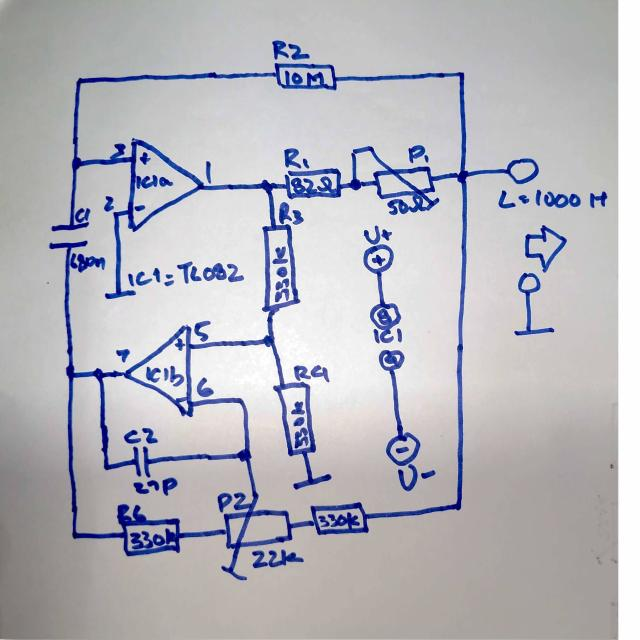capacitor: (48, 222, 92, 250), (130, 445, 152, 480)
ground: (291, 471, 333, 493), (512, 324, 557, 338), (104, 286, 138, 302)
junction: (258, 178, 274, 194), (454, 169, 470, 184), (64, 364, 78, 381), (90, 366, 104, 383), (237, 448, 252, 463), (347, 177, 362, 192), (262, 334, 277, 348), (70, 156, 82, 172), (74, 74, 85, 88), (110, 208, 121, 222), (348, 144, 358, 158), (455, 70, 466, 82), (70, 529, 80, 542), (102, 461, 112, 474), (236, 395, 246, 408), (454, 499, 464, 512), (251, 490, 261, 502), (365, 142, 375, 154)
resistor: (220, 510, 294, 582), (260, 224, 301, 313), (272, 380, 317, 458), (372, 165, 440, 213), (119, 517, 182, 555), (272, 61, 339, 93), (309, 501, 370, 536), (284, 167, 342, 201)
terminal: (385, 431, 420, 467), (361, 242, 395, 275), (506, 156, 540, 186), (368, 302, 403, 331), (378, 348, 406, 374), (516, 271, 542, 297)
text: (126, 260, 245, 288), (497, 188, 608, 211), (396, 463, 437, 492), (250, 548, 304, 570), (142, 362, 185, 389), (271, 245, 291, 303), (283, 68, 330, 90), (128, 529, 178, 549), (290, 399, 310, 448), (132, 476, 179, 496), (289, 174, 335, 194), (386, 194, 427, 215), (271, 39, 309, 61), (317, 511, 361, 530), (69, 251, 106, 273), (292, 364, 330, 385), (277, 201, 305, 228), (115, 502, 146, 526), (122, 426, 159, 446), (217, 491, 251, 512), (134, 173, 177, 189), (362, 223, 392, 245), (407, 142, 431, 168), (283, 147, 310, 170), (193, 318, 213, 345), (194, 375, 214, 397), (110, 141, 128, 162), (202, 160, 214, 186), (74, 206, 92, 222), (114, 347, 130, 364), (383, 353, 399, 370), (377, 308, 392, 326), (102, 194, 115, 213)
